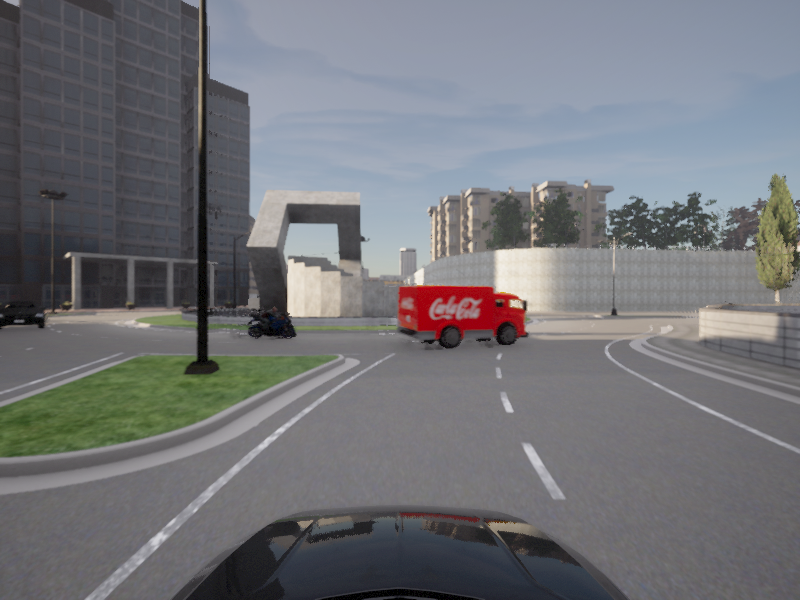vehicle: (394, 284, 536, 351), (244, 306, 298, 340), (0, 300, 46, 331)
